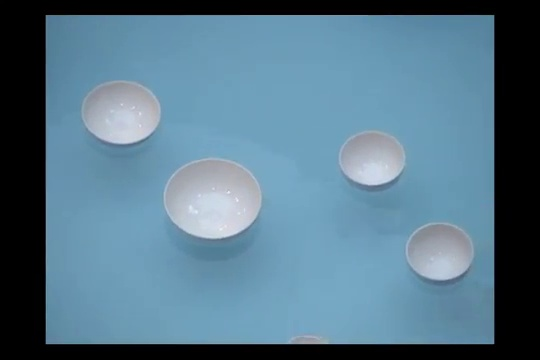bowl: (165, 157, 262, 245), (82, 80, 162, 150), (406, 222, 474, 286), (338, 131, 405, 191), (288, 335, 327, 344)
